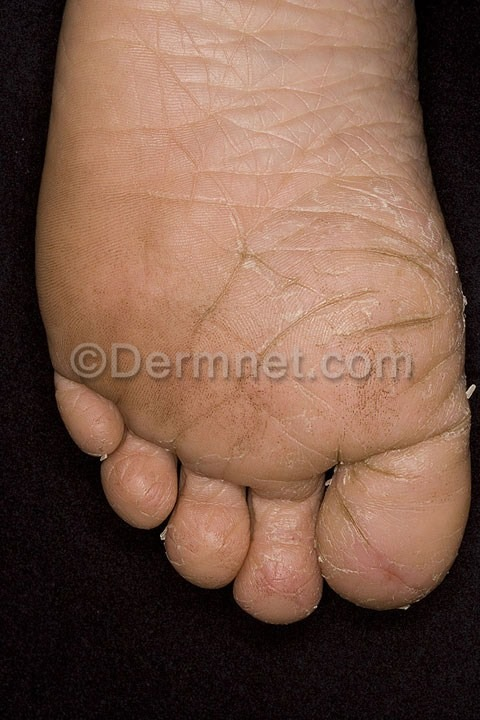Eczema: (140, 107, 480, 405), (74, 410, 480, 619)
